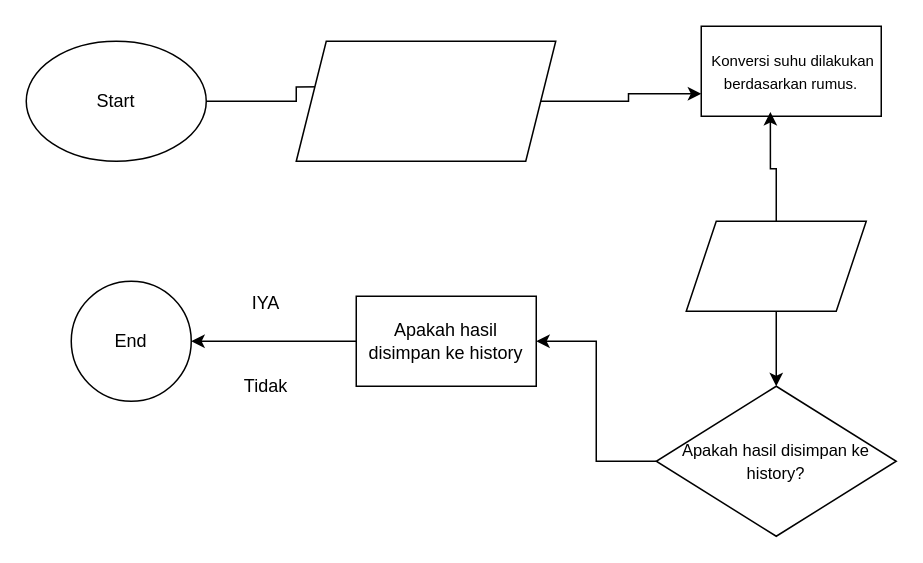
Image size: 923x563. Some labels were removed from this diagram. Each missing label, with the centre of its shape:
"Hasil konversi ditampilkan" goes at point (775, 265).
"Pengguna memasukkan angka dan memilih satuan" goes at point (425, 100).
